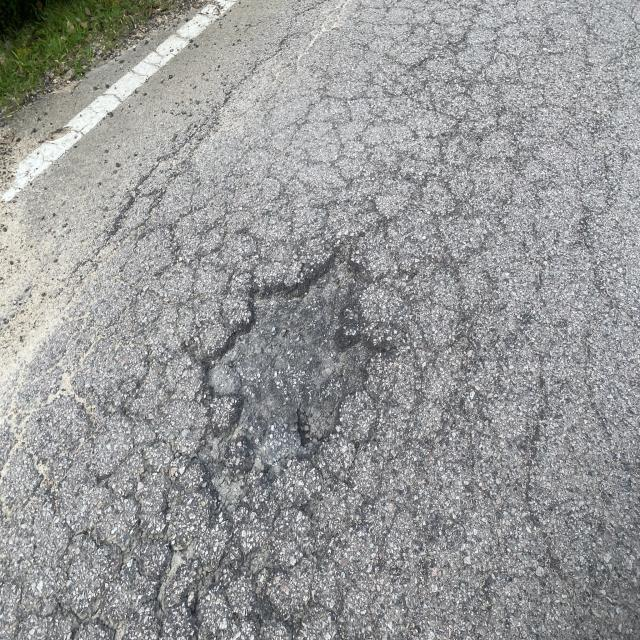Pothole: (182, 213, 414, 517)
